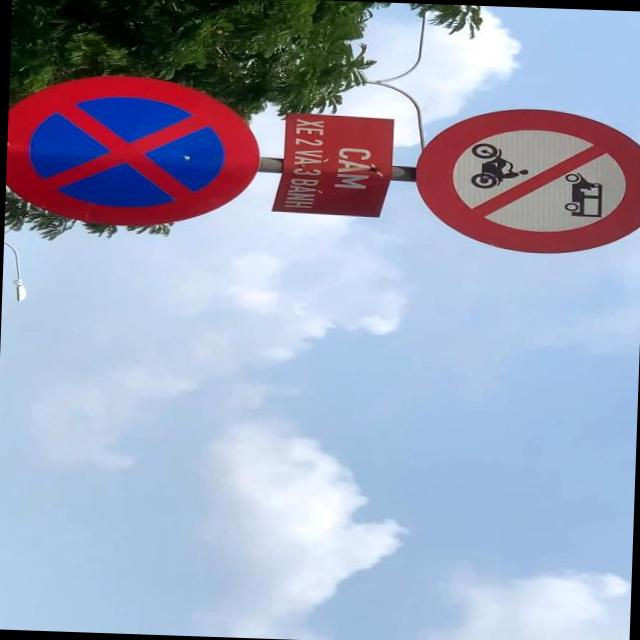P-104: (412, 105, 640, 256)
P-130: (4, 73, 262, 230)
